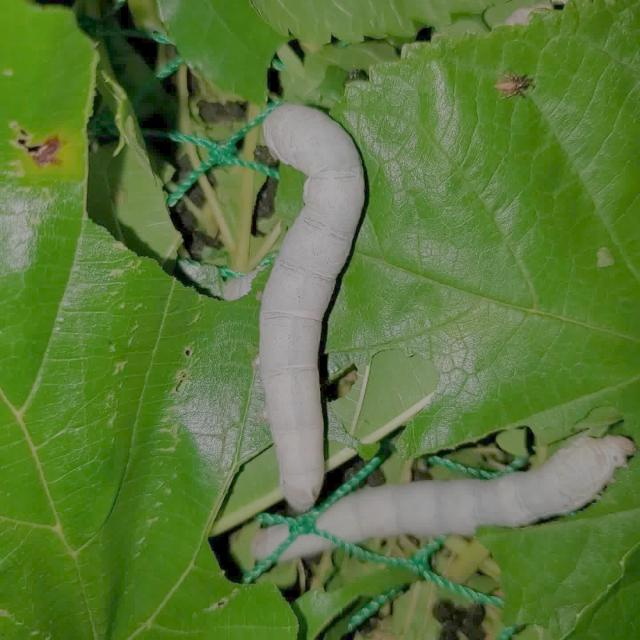Healthy: (172, 75, 391, 522)
